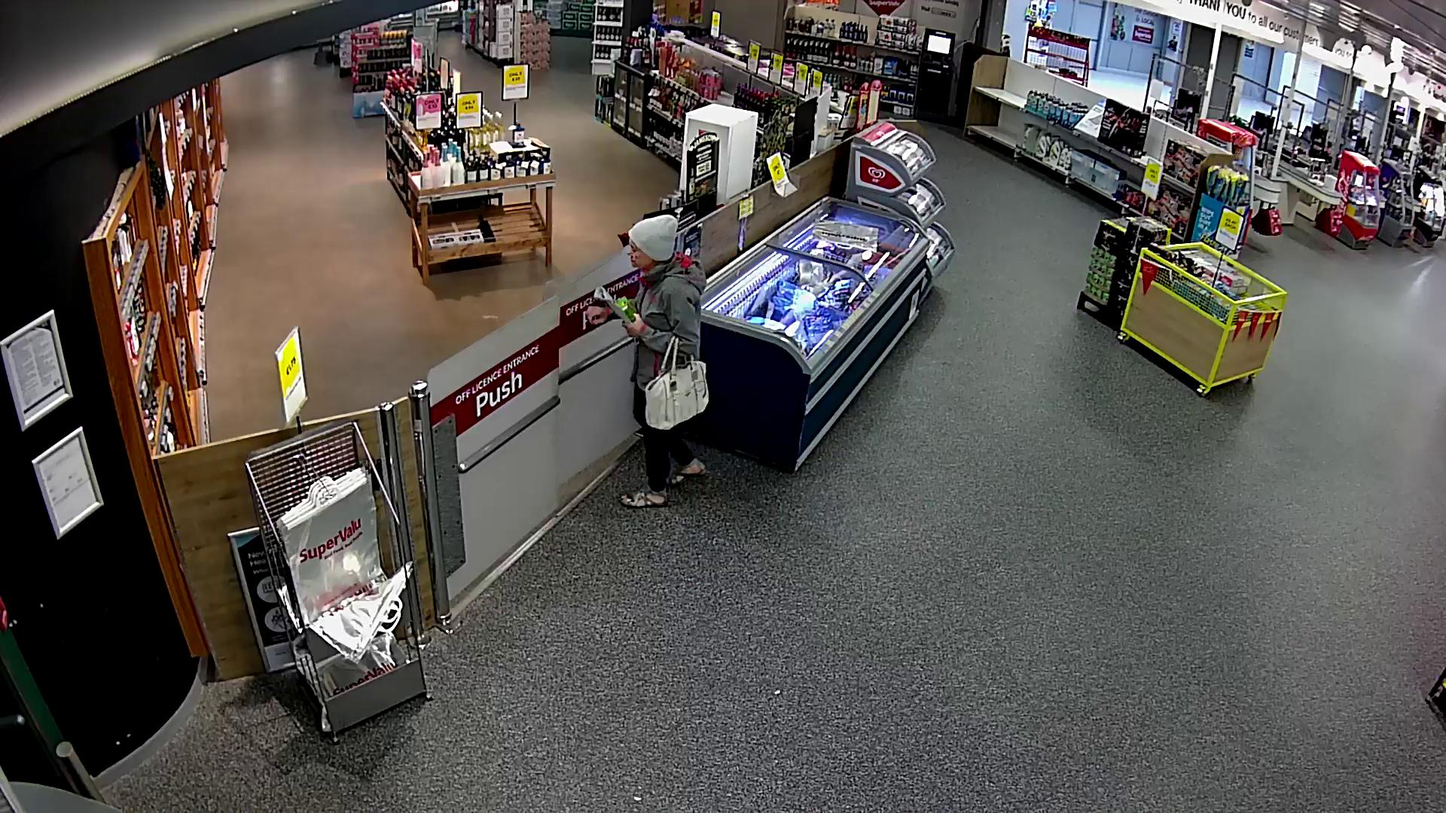backpack-or-handbag: (645, 359, 710, 430)
carrying-item: (596, 282, 636, 328)
person: (588, 215, 707, 508)
person-with-backpack-handbag-and-carrying-item-s-: (588, 215, 712, 508)
